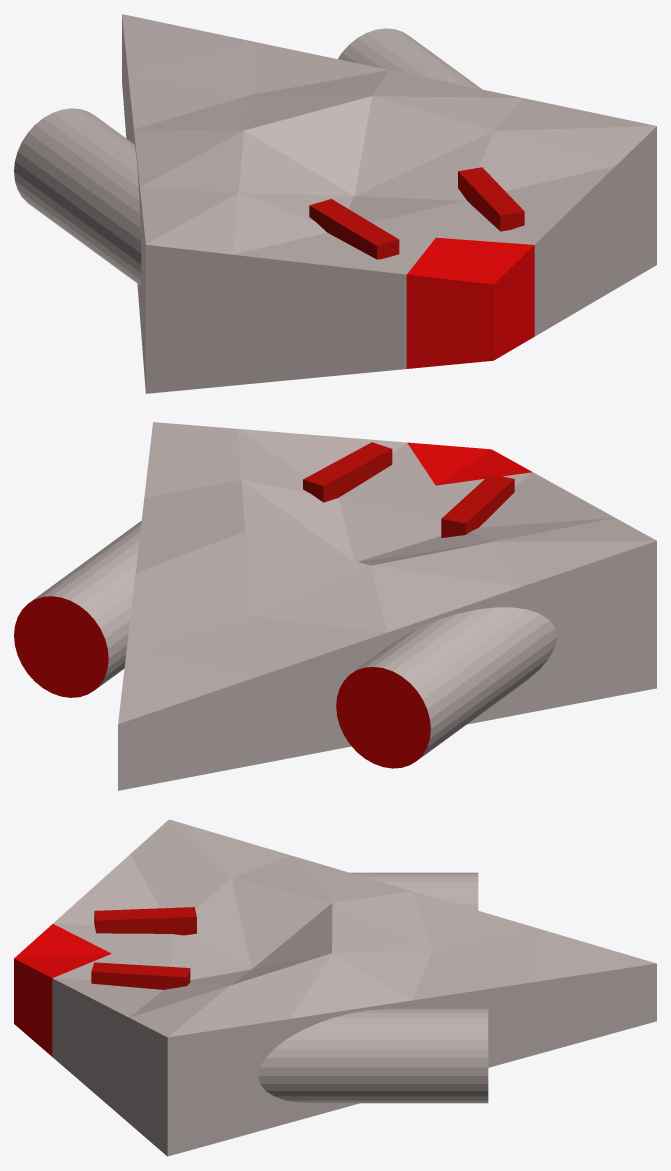
File: enemy.fbx
3 views of the same model, one above another, from view 1: azimuth 30°, elevation 25°; view 2: azimuth 150°, elevation 25°; view 3: azimuth 270°, elevation 25° (orthographic). The views are drawn at different scales.
Visible parts, largest first — view 1: Cube; view 2: Cube; view 3: Cube.
Part boxes in pixels (box(x1,y1,x2,y2)): Cube: box(14, 14, 656, 393); Cube: box(14, 422, 656, 790); Cube: box(14, 819, 656, 1156).
Size of the model in its own units: 3.28 by 0.9221 by 4.17.
